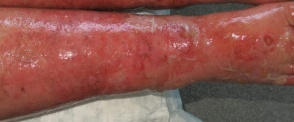SJS-TEN: (0, 3, 294, 111)
